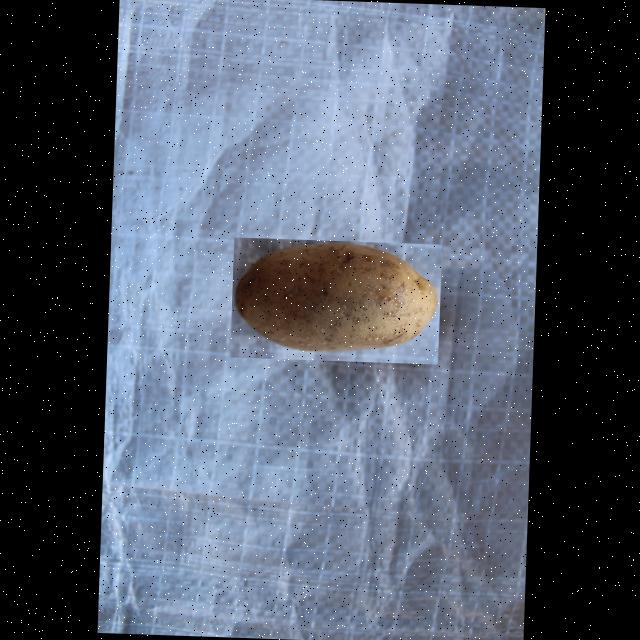Diseased-fungal potato: (228, 237, 441, 364)
